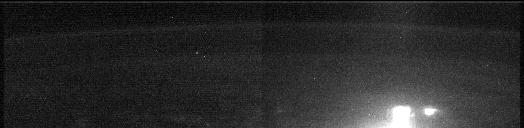positive: (385, 102, 415, 127)
